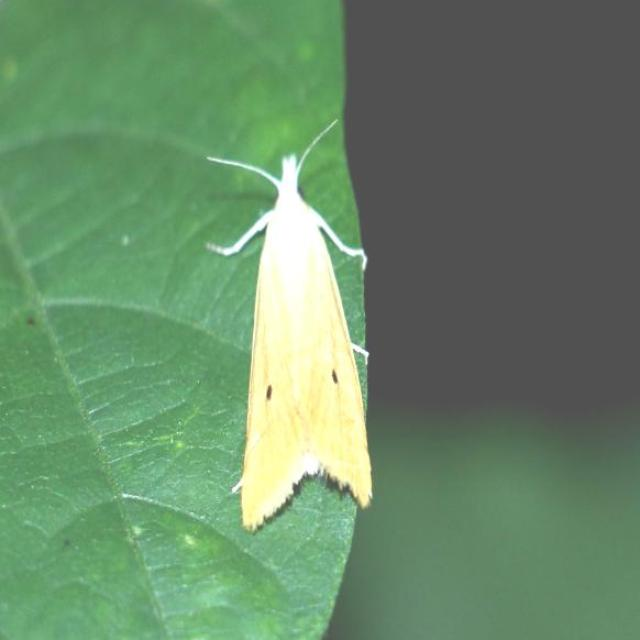stem borer: (211, 156, 371, 529)
